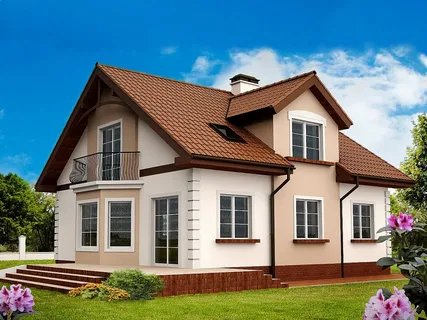private_hause: (48, 60, 398, 275)
